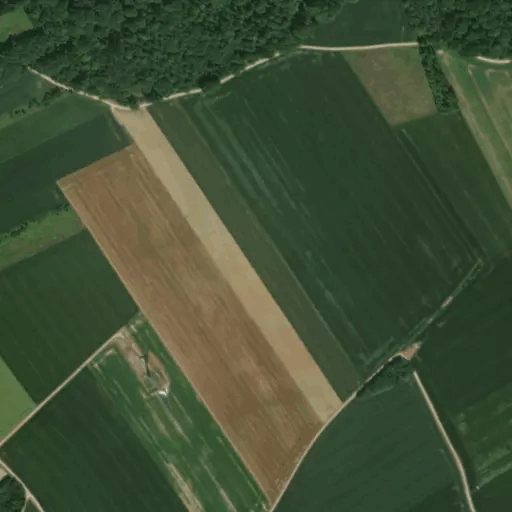wt: (130, 340, 173, 402)
